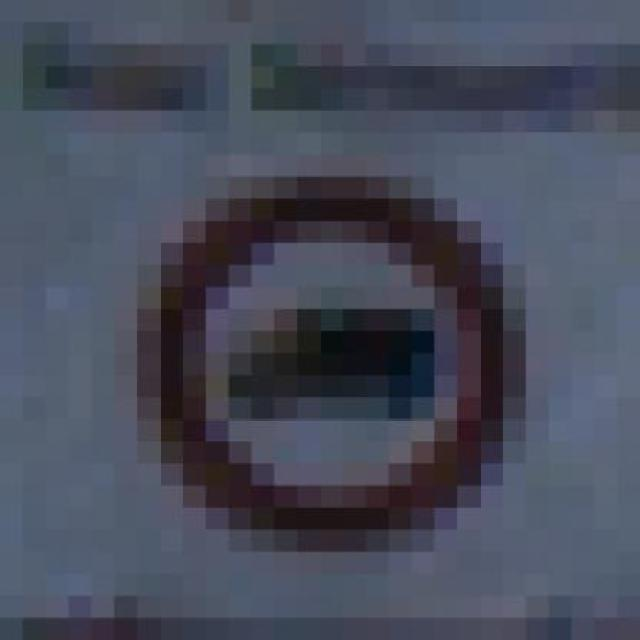Truck traffic is prohibited: (91, 154, 548, 552)
